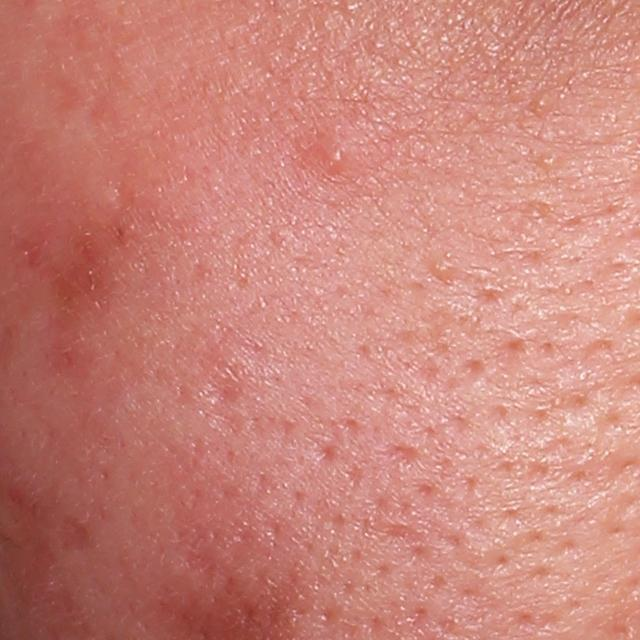atrophic_scar: (385, 441, 422, 466), (314, 438, 344, 466)
comedo: (426, 251, 467, 284), (539, 154, 557, 168)
